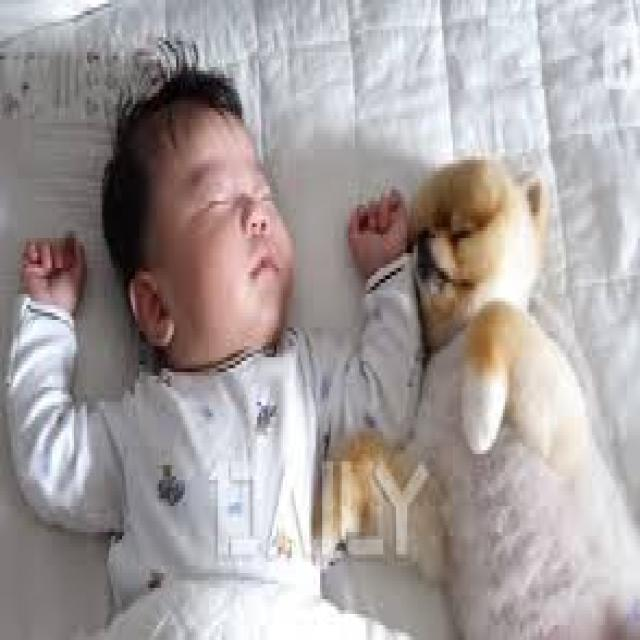dog: (406, 157, 639, 640)
persons: (15, 65, 404, 640)
